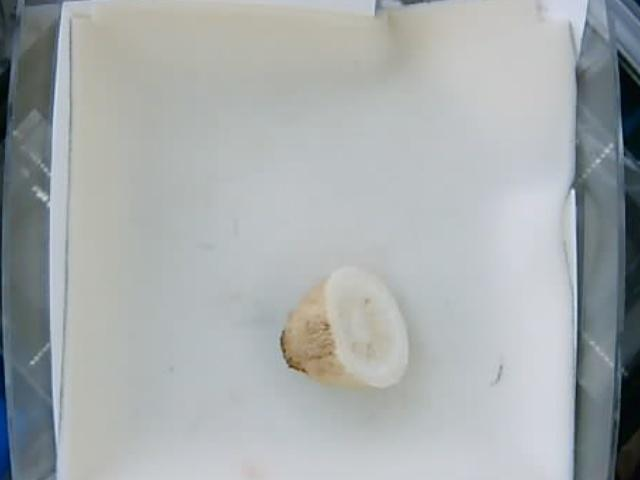Mooli: (276, 266, 411, 392)
